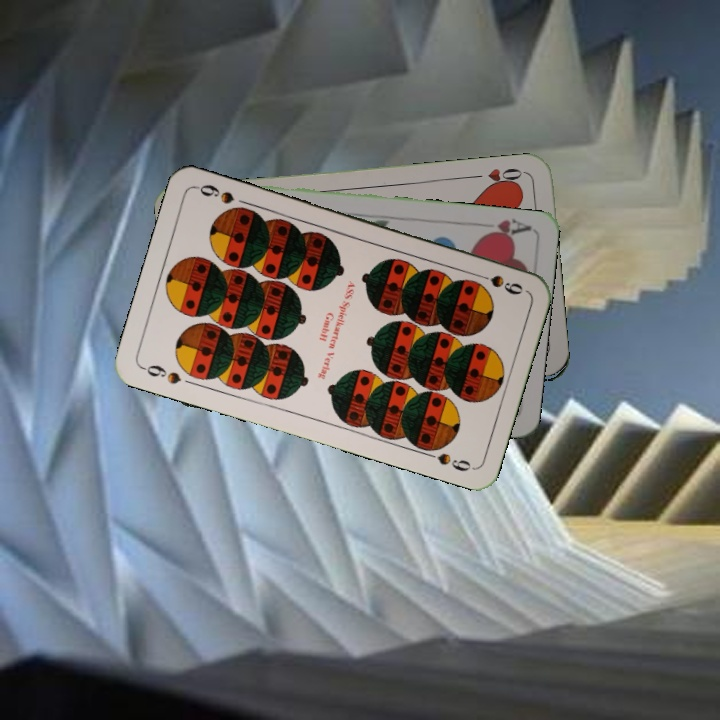HA: (474, 215, 533, 242)
HO: (467, 164, 526, 191)
S9: (469, 268, 525, 298), (138, 361, 184, 387)
